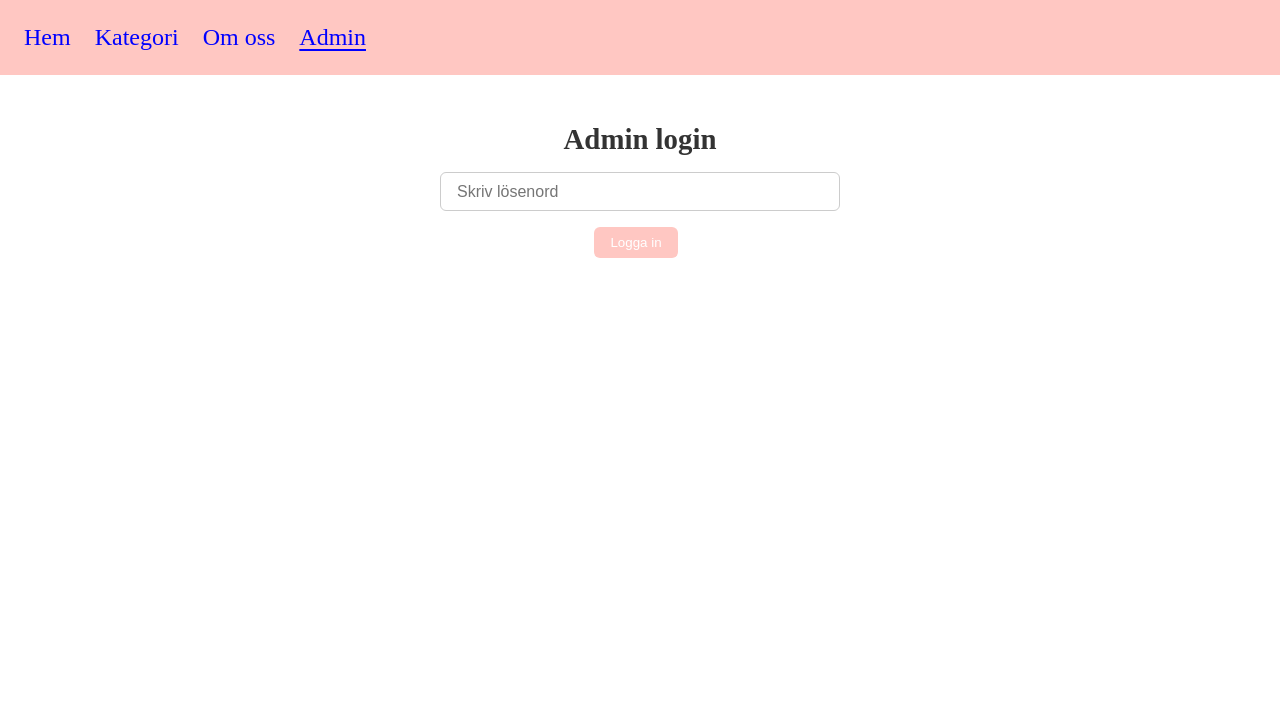
Admin-sidan › ska visa inloggning och logga in korrekt
# Fyll i lösenord och klicka på "Logga in"
Type "hemligt" into the password field with placeholder "Skriv lösenord" at (640, 192), box [440,172,840,211]
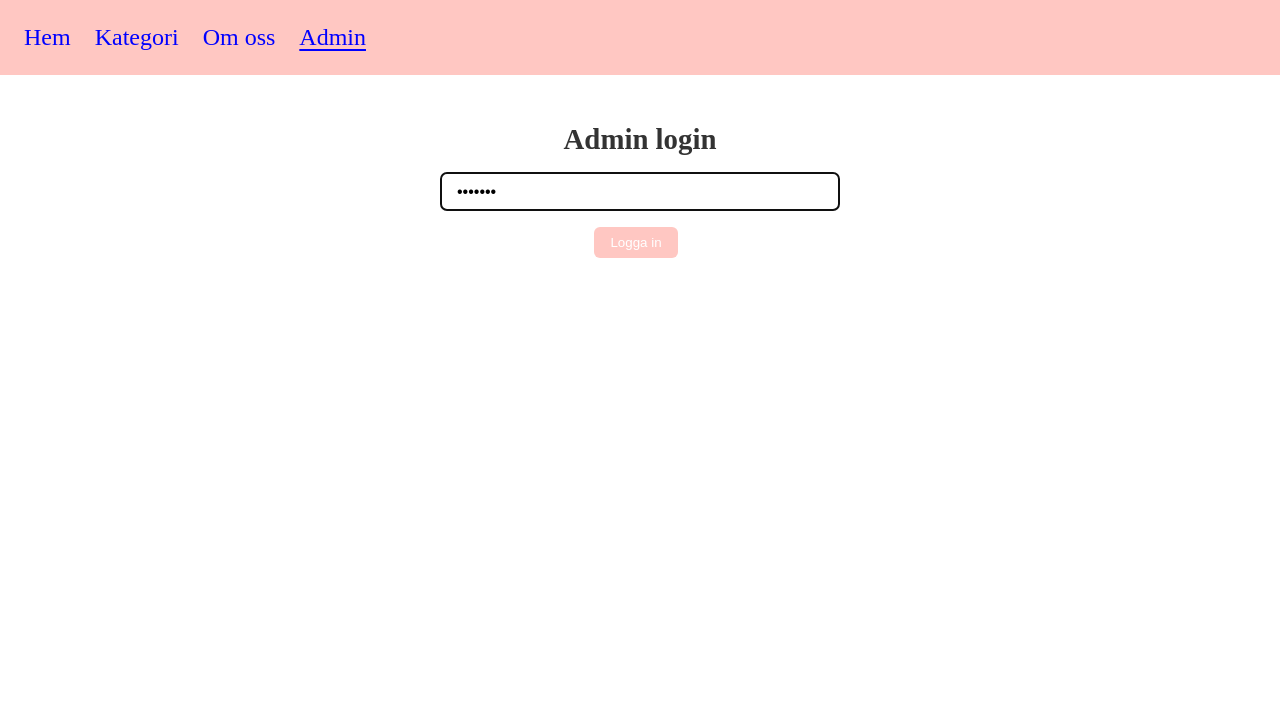
Click the button "Logga in" at (636, 243), box [594,227,677,258]
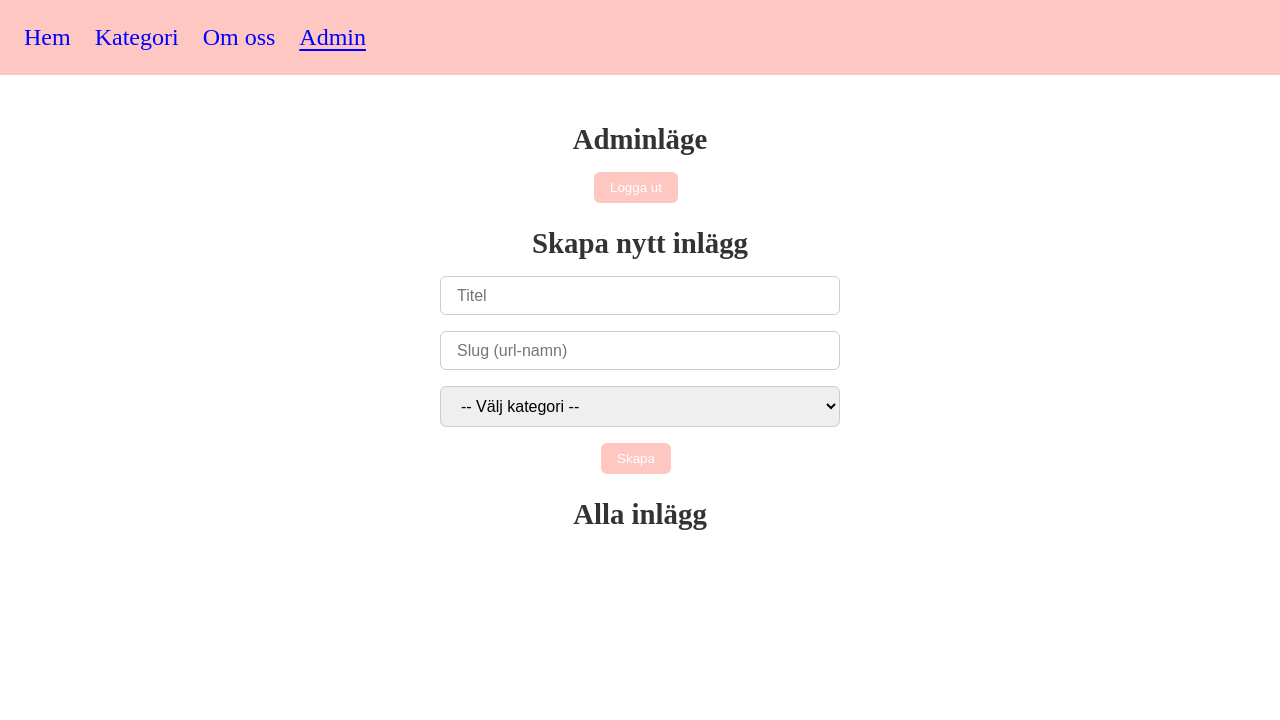
Expected: the heading "Skapa nytt inlägg" is shown, [532,227,748,260]
